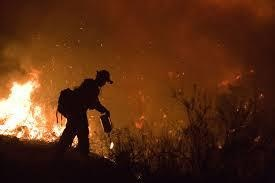fire: (0, 76, 62, 143), (69, 132, 78, 146)
